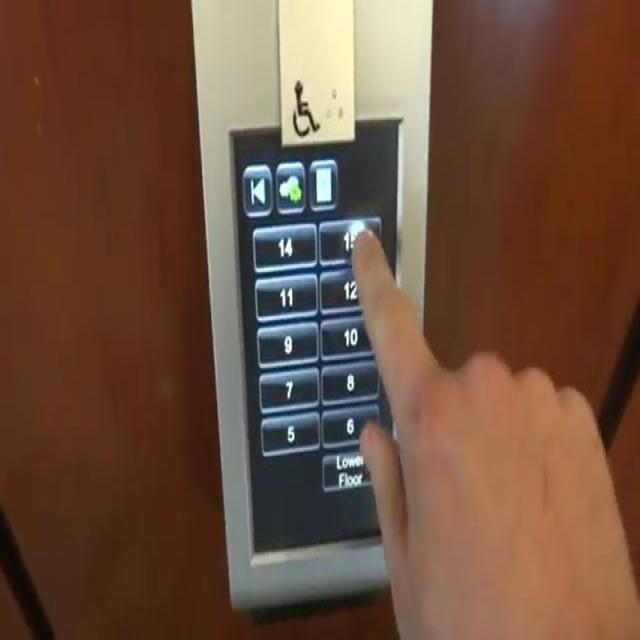10: (318, 311, 382, 358)
11: (253, 270, 317, 322)
12: (317, 264, 382, 313)
14: (251, 221, 318, 271)
5: (260, 408, 320, 453)
6: (320, 403, 380, 448)
7: (256, 367, 319, 412)
8: (320, 357, 380, 403)
9: (256, 318, 317, 366)
CH: (280, 70, 324, 142)
text: (321, 448, 381, 489)
unknown: (317, 217, 382, 264), (238, 162, 272, 218), (273, 157, 305, 215), (307, 156, 339, 213)
